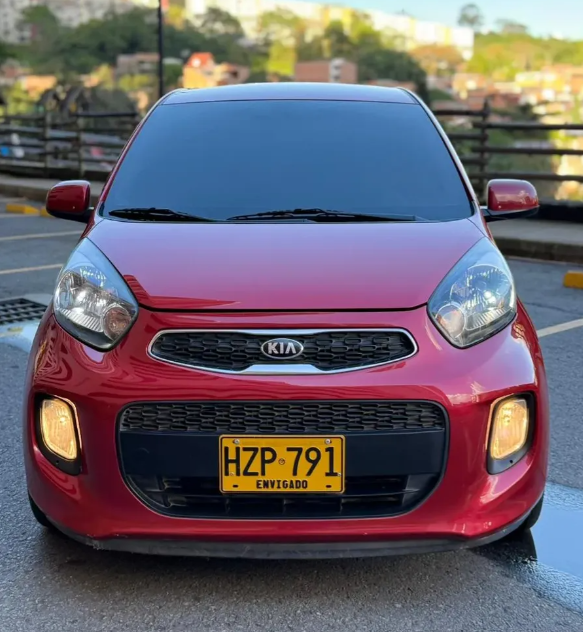placa: (219, 434, 349, 494)
